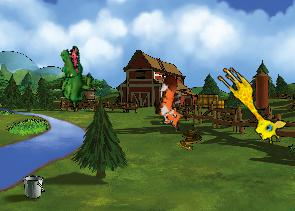crocodile: (44, 43, 103, 112)
fox: (149, 73, 197, 132)
giraffe: (207, 62, 291, 148)
